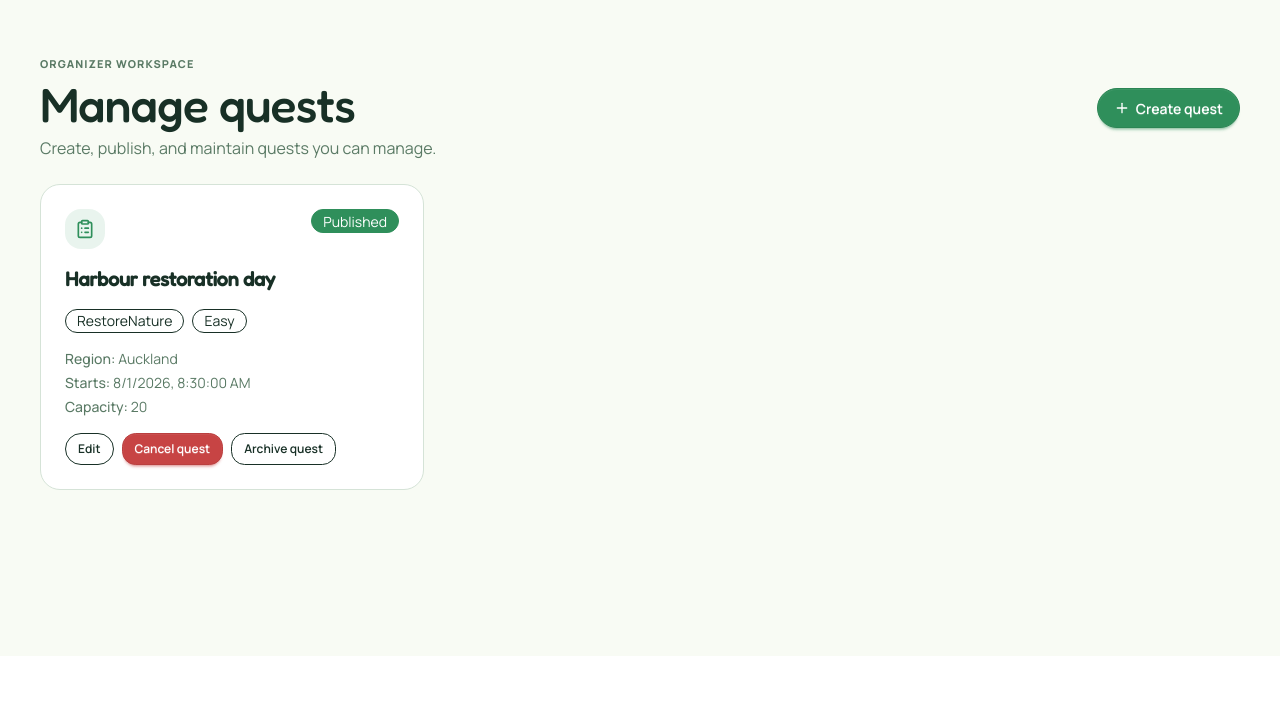
Test: Organizer Quest list › keeps a failed lifecycle dialog open and displays the backend detail
This screenshot has width=1280, height=720.
Step 1. Click the button "Cancel quest" → (172, 449), box [122,433,223,465]
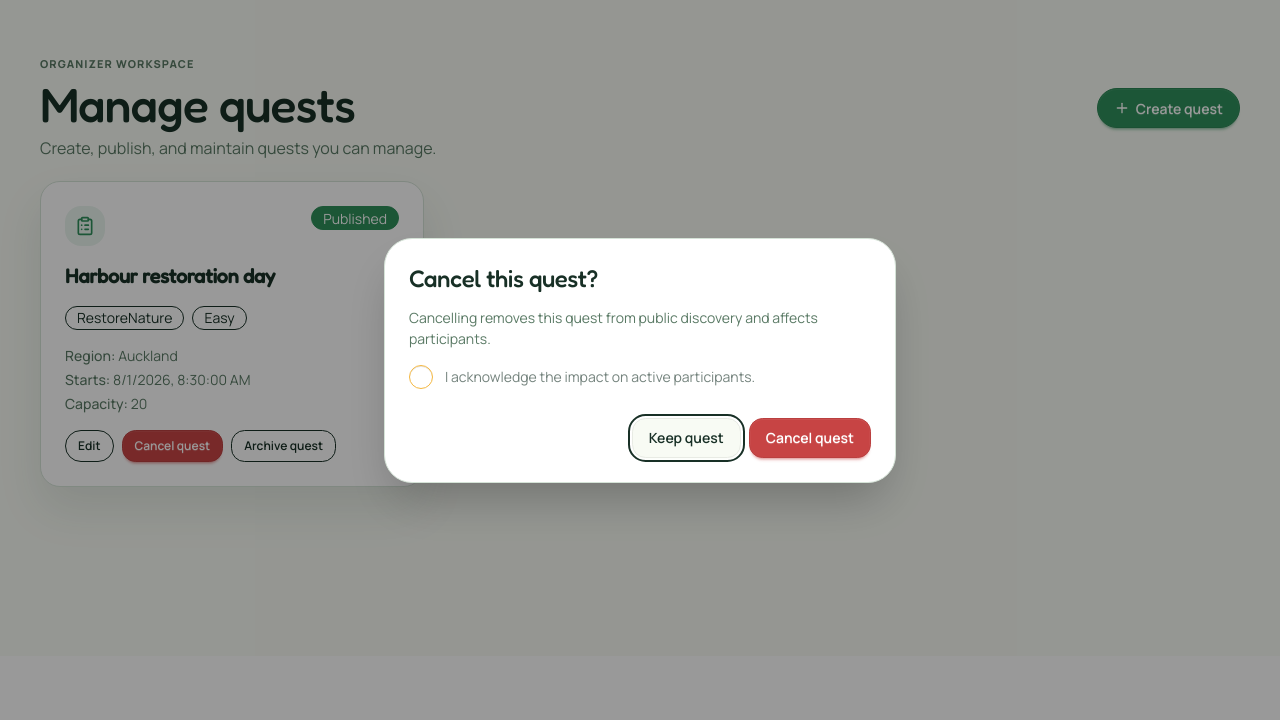
Step 2. Click the button "Cancel quest" → (810, 438), box [749,418,871,458]
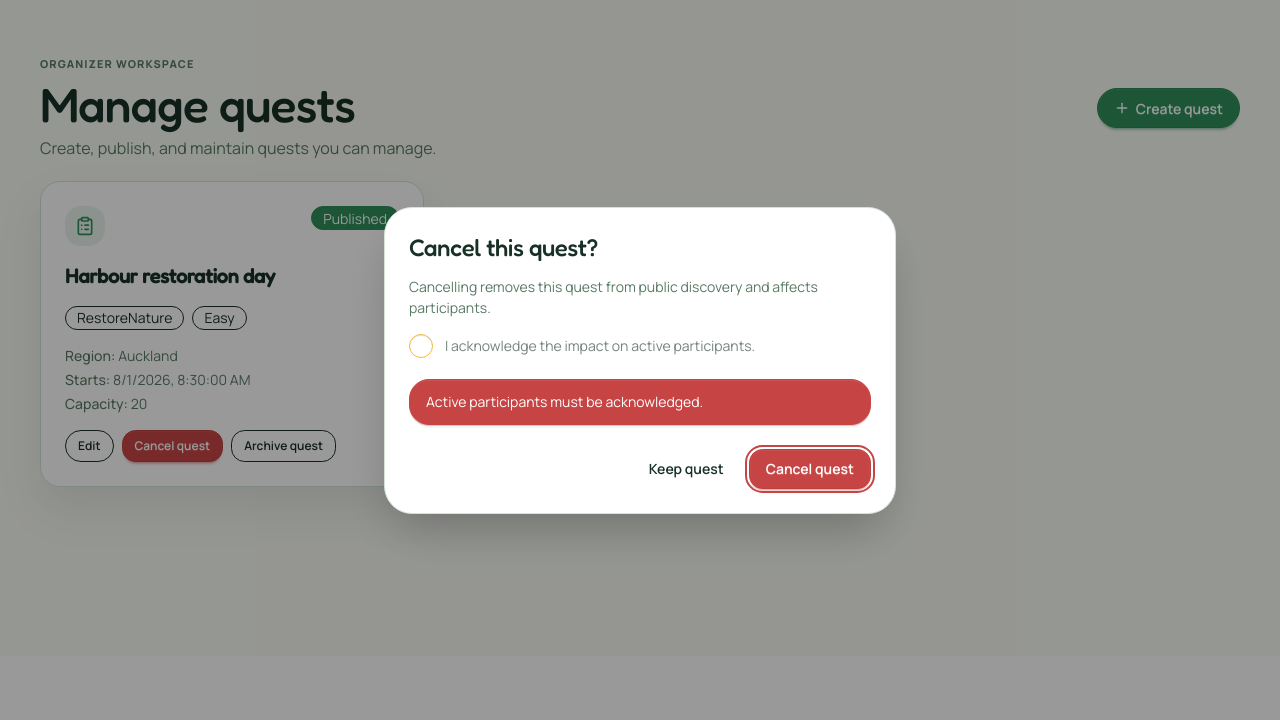
Now the heading "Cancel this quest?" is shown, box [409,232,598,262]
Now the text "Active participants must be acknowledged." is shown, box [426,392,703,412]
